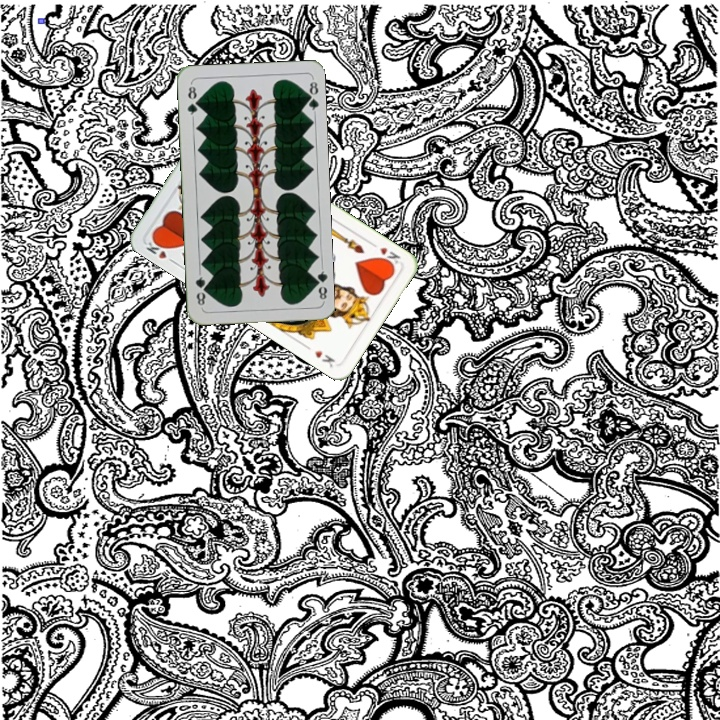G8: (309, 263, 330, 304), (183, 80, 201, 121)
HK: (142, 234, 178, 266), (367, 239, 403, 269)
